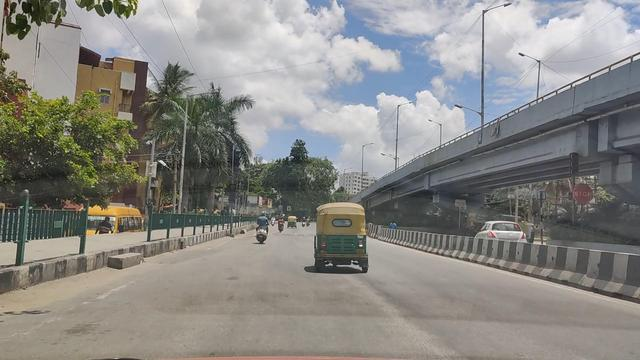LMV: (313, 203, 371, 277)
RoadDamages: (381, 307, 446, 357)
